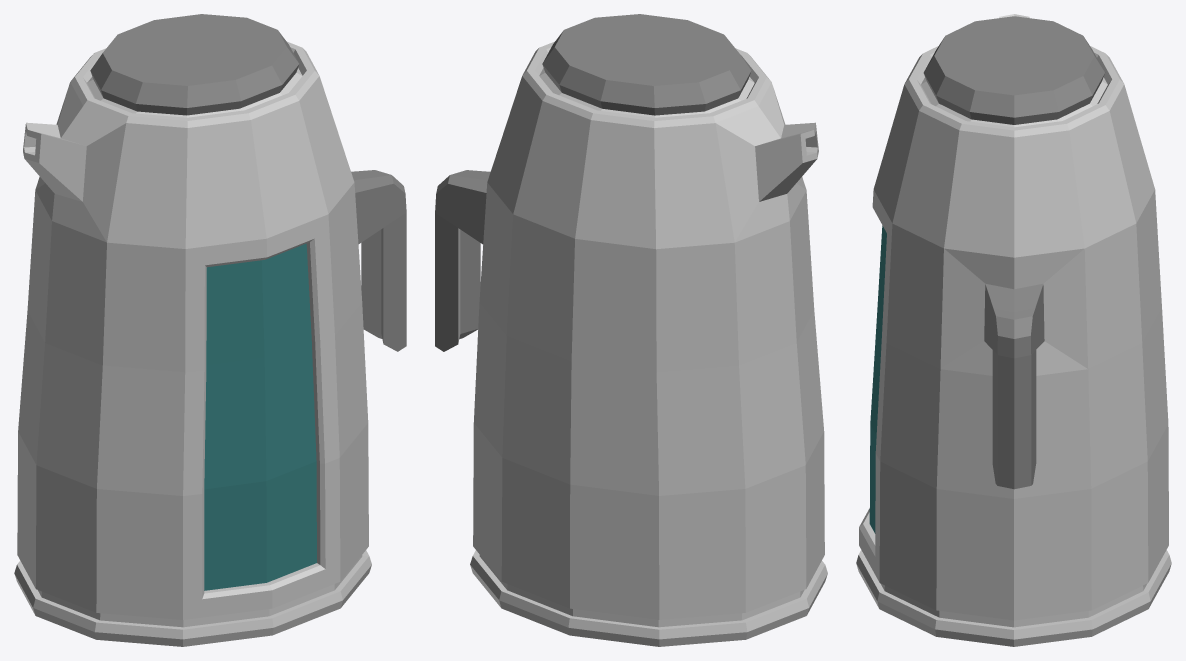
The picture shows the model from 3 angles, left to right: view 1: azimuth 30°, elevation 25°; view 2: azimuth 150°, elevation 25°; view 3: azimuth 270°, elevation 25°; orthographic projection. The views are drawn at different scales.
Visible parts, largest first — view 1: Kettle; view 2: Kettle; view 3: Kettle.
Part boxes in pixels (bbox=[...]): Kettle: bbox=[14, 14, 406, 646]; Kettle: bbox=[435, 14, 827, 646]; Kettle: bbox=[856, 14, 1171, 646].
Bounding box in the file's own units: 2.07 × 2.73 × 1.51.
